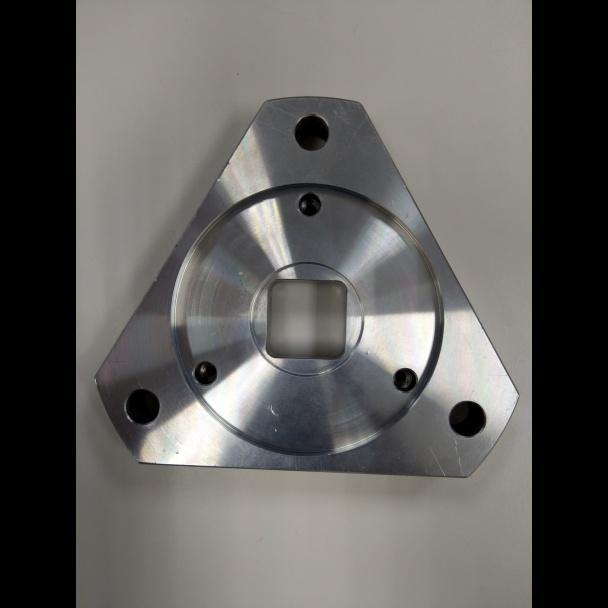hole: (446, 398, 488, 439), (121, 386, 162, 427), (291, 112, 331, 152), (190, 358, 220, 387), (391, 366, 420, 395), (295, 190, 324, 218)
